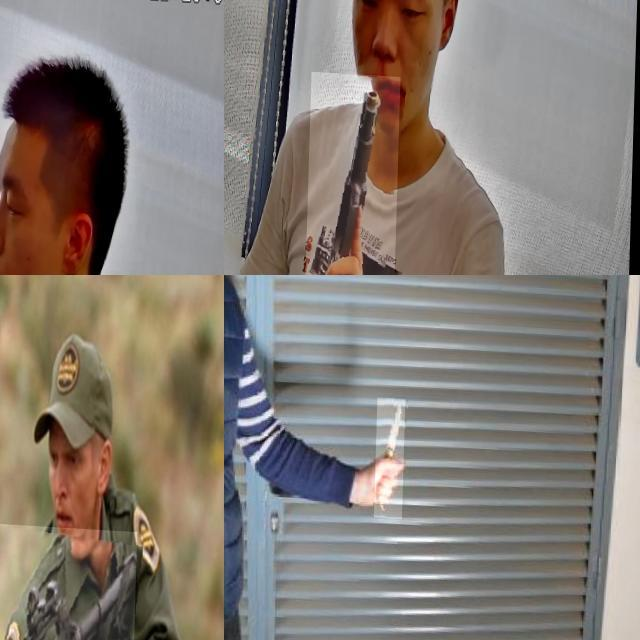-: (377, 394, 408, 516)
gun-knife-thesis - v11 Yolov5 augmented: (305, 67, 402, 275), (0, 28, 73, 275), (0, 515, 139, 640)
